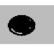correct: (6, 12, 36, 42)
